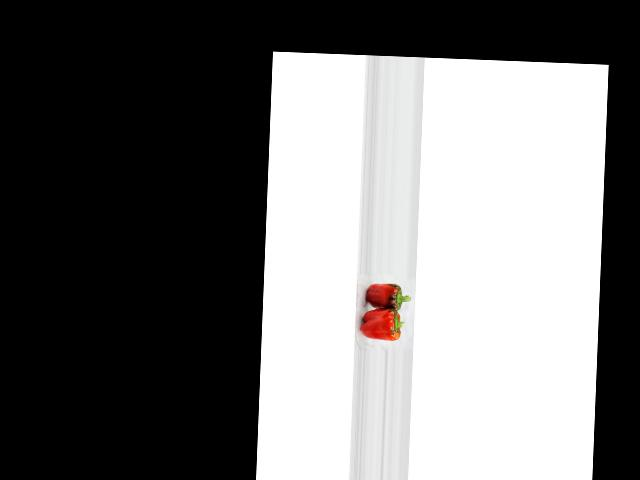bell_pepper: (359, 308, 407, 346)
